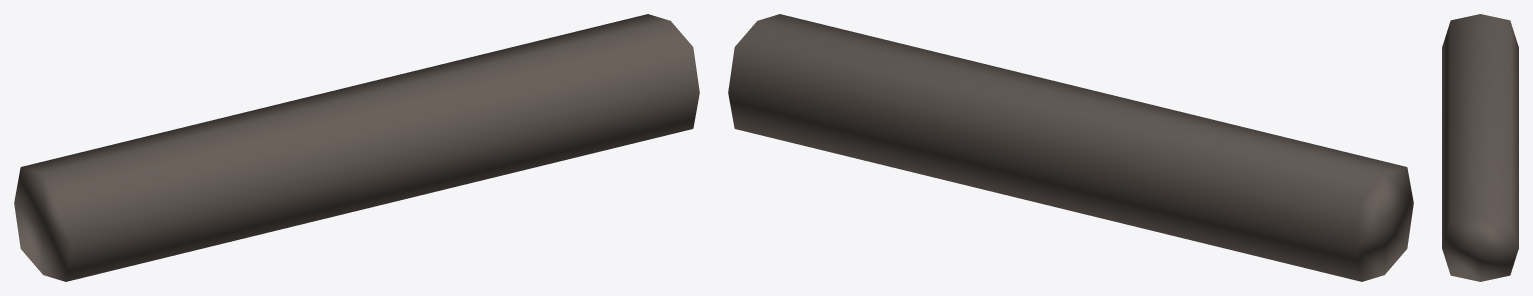
The model's file is spacer_stone_sm.glb.
The picture shows the model from 3 angles, left to right: view 1: azimuth 30°, elevation 25°; view 2: azimuth 150°, elevation 25°; view 3: azimuth 270°, elevation 25°; orthographic projection. The views are drawn at different scales.
Visible parts, largest first — view 1: spacer_stone_sm; view 2: spacer_stone_sm; view 3: spacer_stone_sm.
Boxes of the visible parts, x1,y1,x2,y2 form: spacer_stone_sm: [14, 14, 699, 281]; spacer_stone_sm: [728, 14, 1413, 281]; spacer_stone_sm: [1442, 14, 1518, 281].
Bounding box in the file's own units: 8 × 1.23 × 1.29.
1 material, 1 textured.
